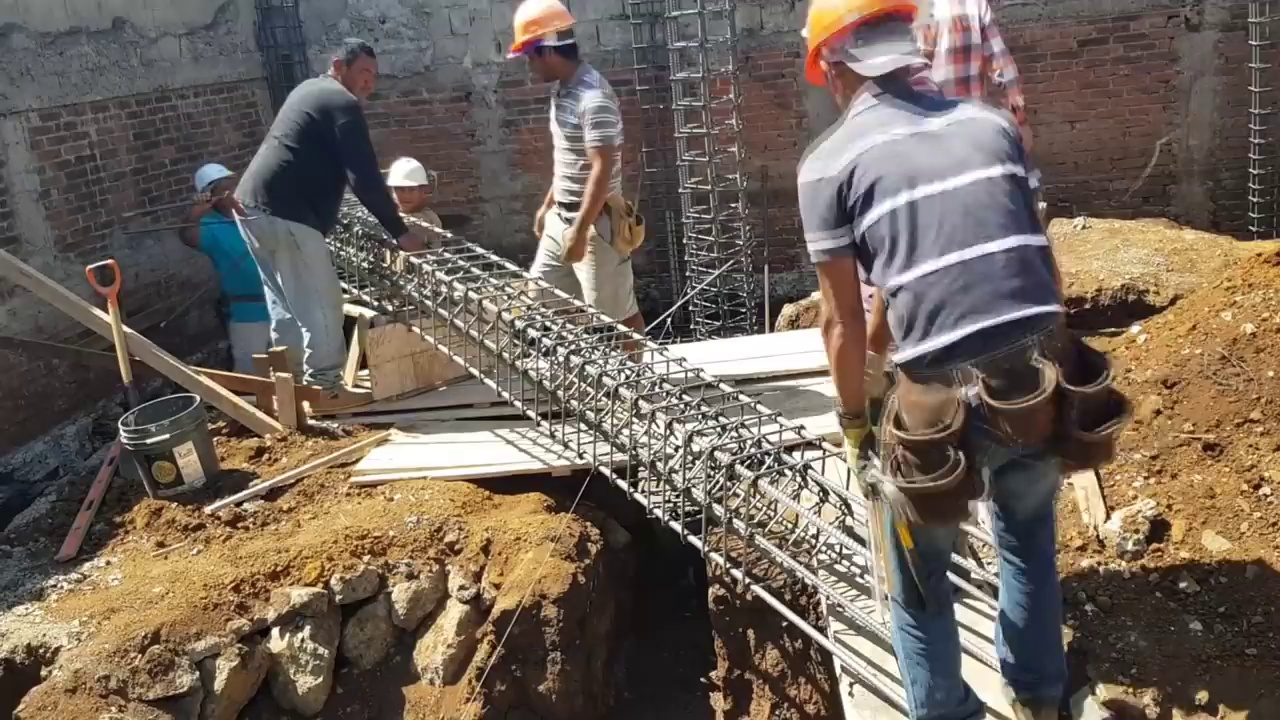helmet: (793, 0, 916, 87), (503, 2, 582, 61), (384, 154, 433, 190), (193, 161, 234, 193)
helmet-off: (322, 41, 380, 100)
helmet-on: (795, 2, 919, 114), (501, 2, 584, 84), (384, 154, 432, 220), (190, 159, 236, 221)
person: (785, 0, 1116, 709), (228, 36, 413, 401), (500, 1, 634, 346), (182, 159, 280, 379), (921, 0, 1038, 156), (381, 149, 446, 253)
